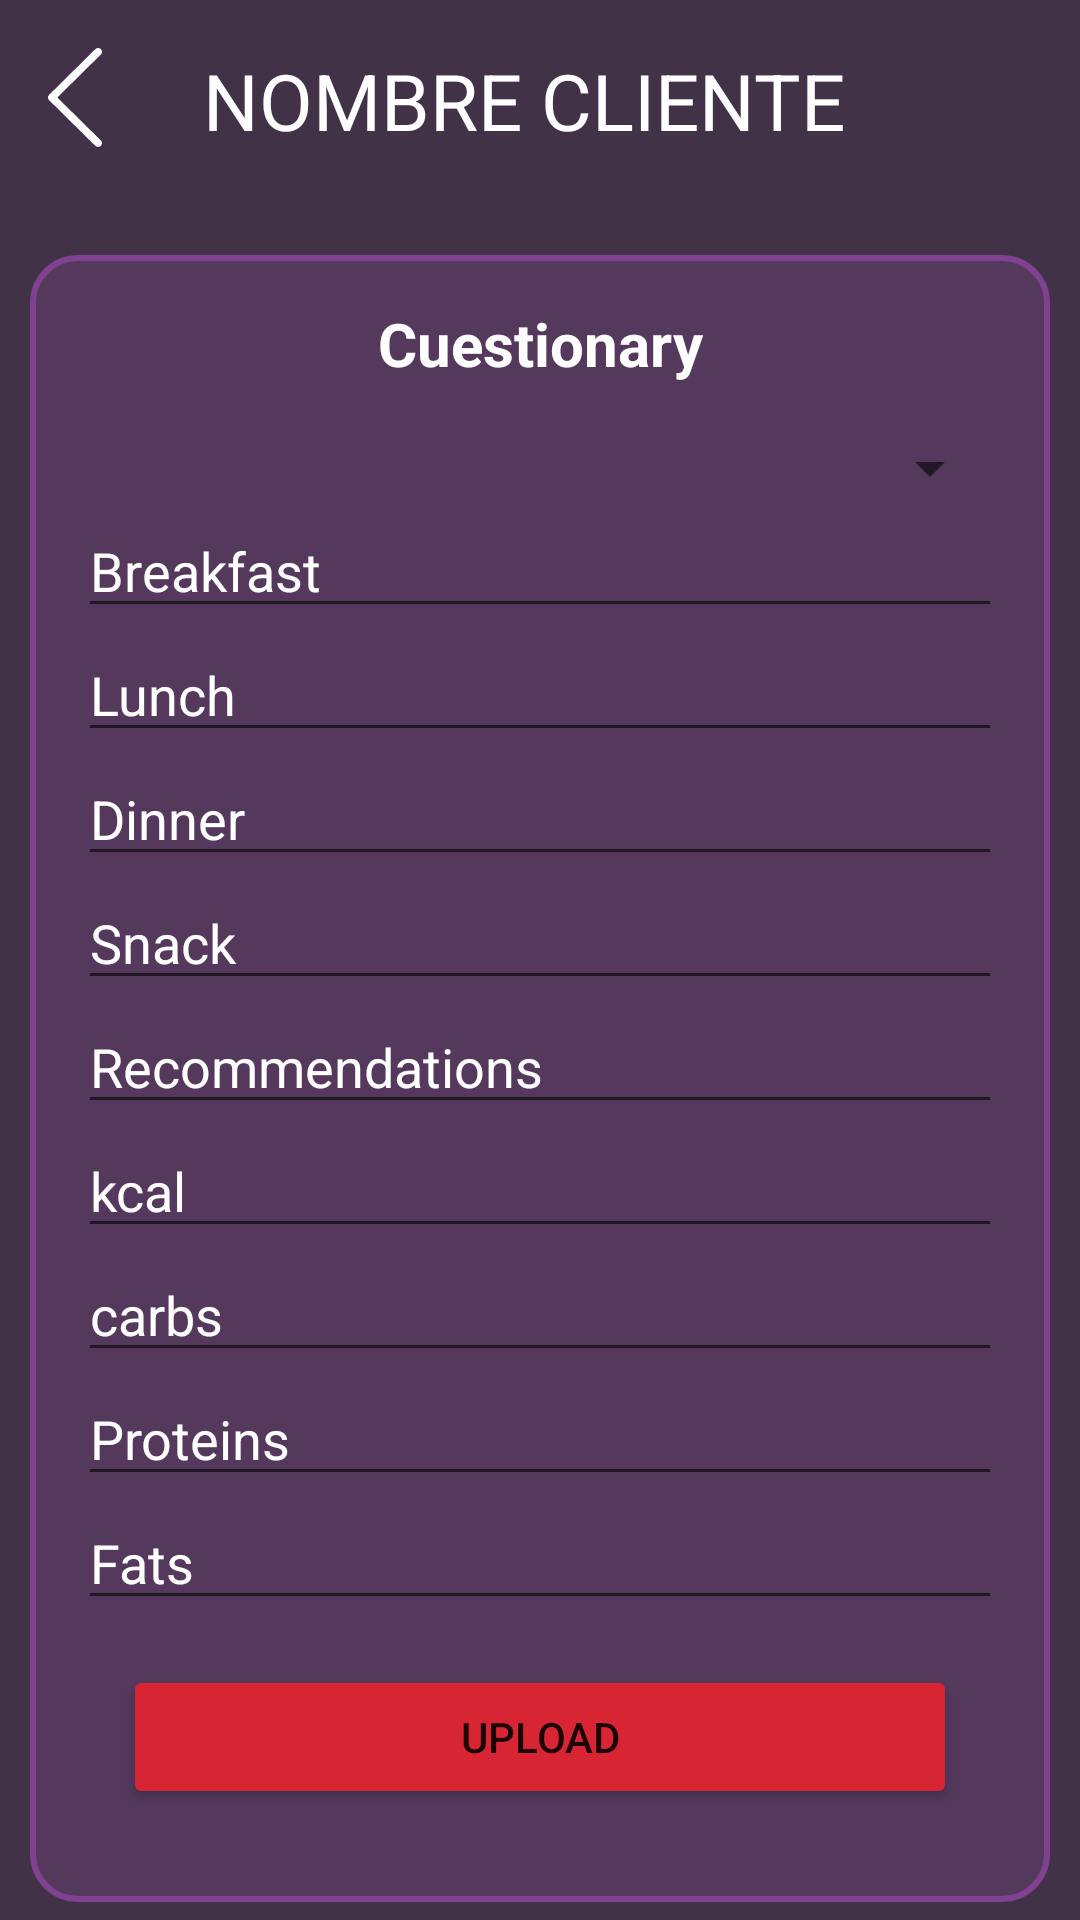

Icon bounding boxes for this 1080 × 1920 phone screenshot, format (x1, y1, x2, y2):
back: (48, 48, 102, 147)
